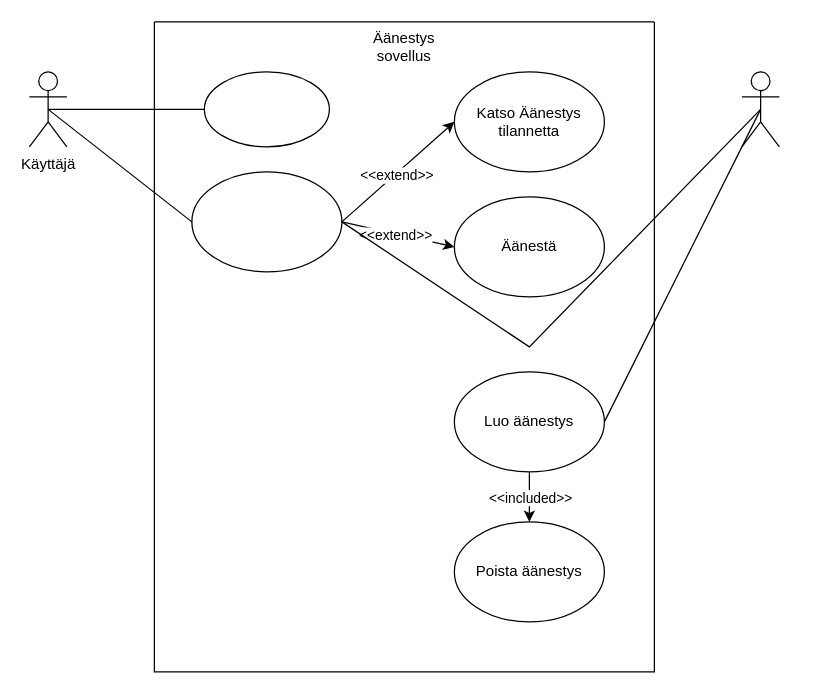
Image size: 813x694. Some labels were removed from this diagram. Each missing label, with the centre of its shape:
Selaa käyttjien Tekemiä äänestyksiä: the point at 266,109
Valitse äänestys: the point at 266,221
Ylläpitäjä: the point at 760,109
